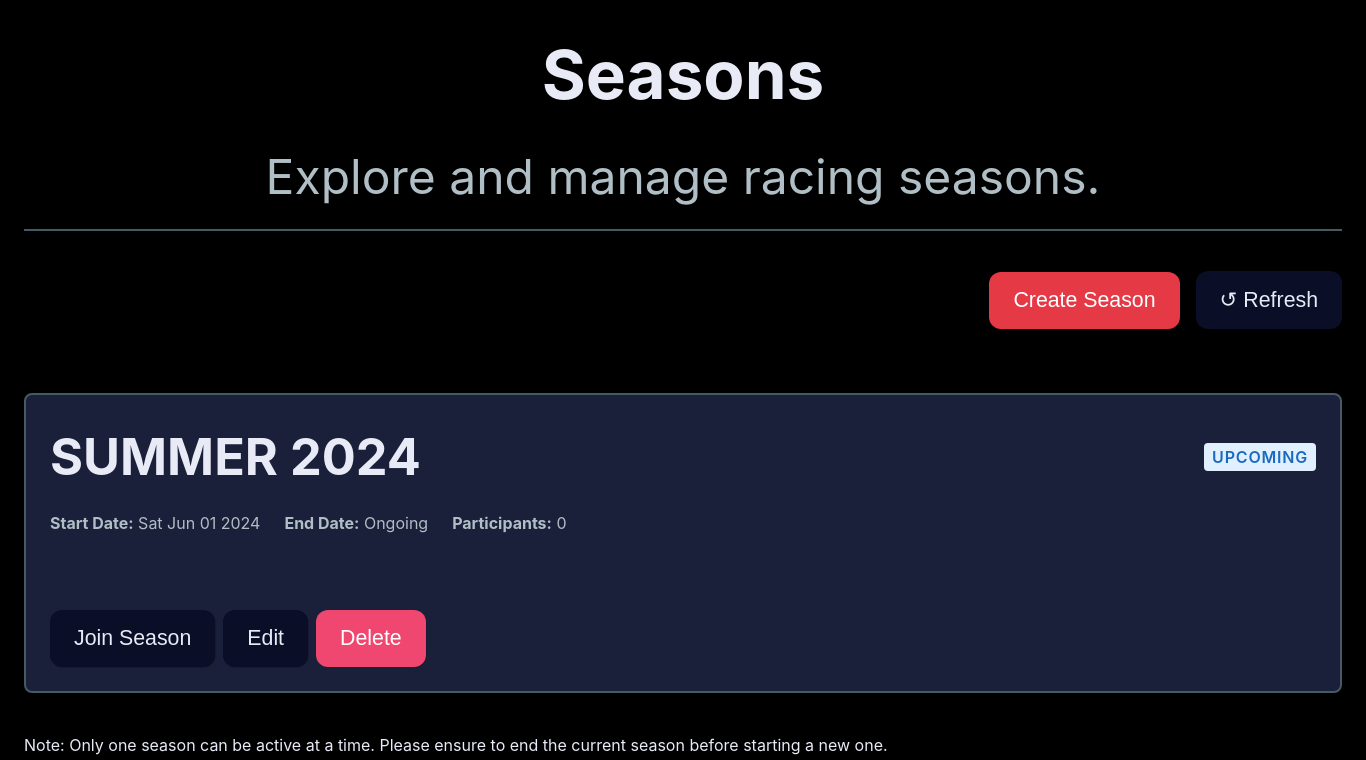
Test: Given a Seasons page › When rendering seasons › shows create action for admins and opens add season modal
The image size is (1366, 760).
Click the button "Create Season": [1084, 300] box [989,272,1180,328]
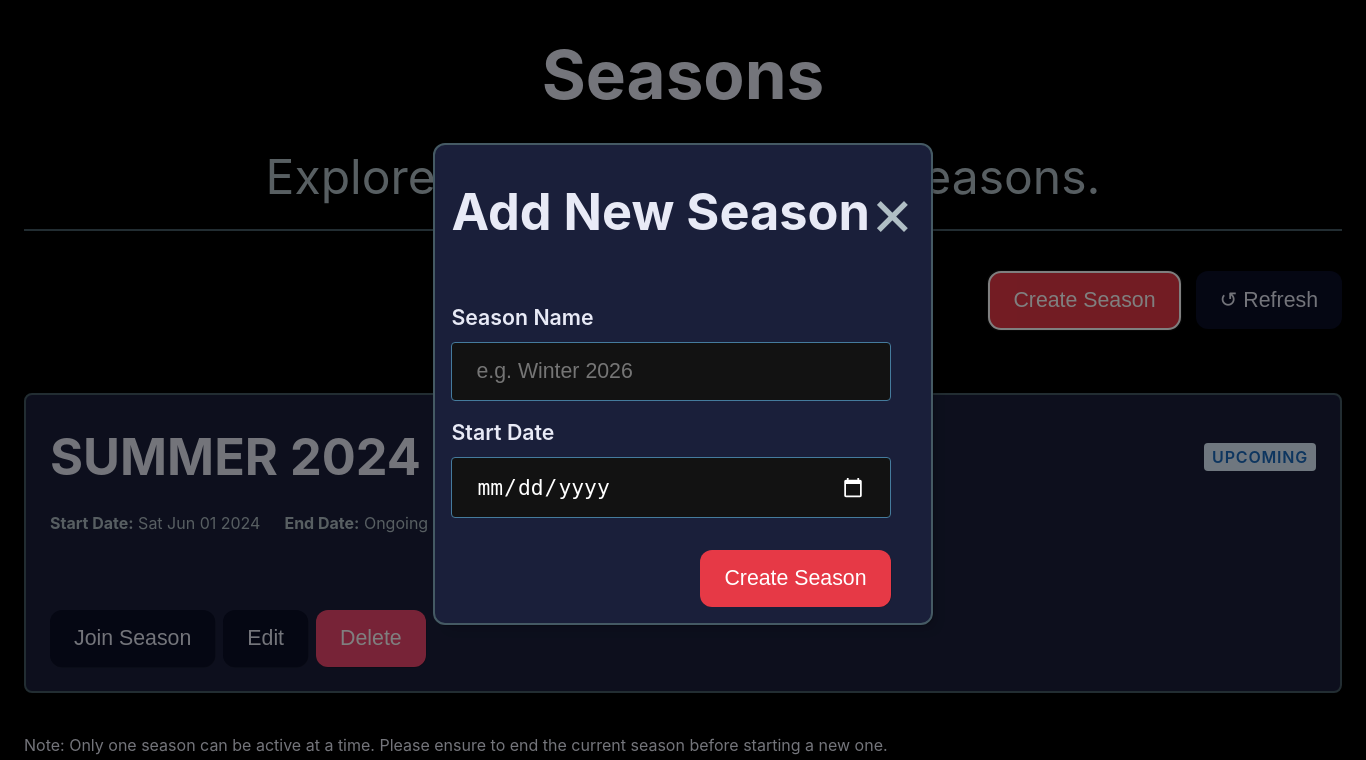
Result: the heading "Add New Season" is shown at [451,174,870,249]
